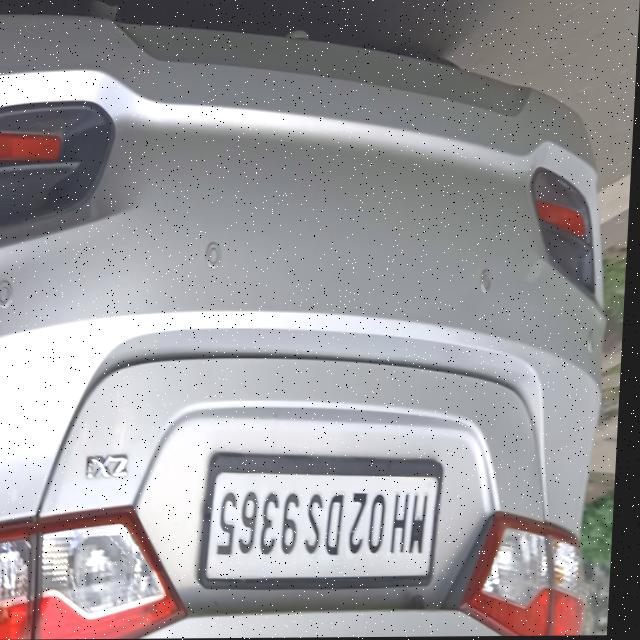plate: (202, 453, 448, 594)
